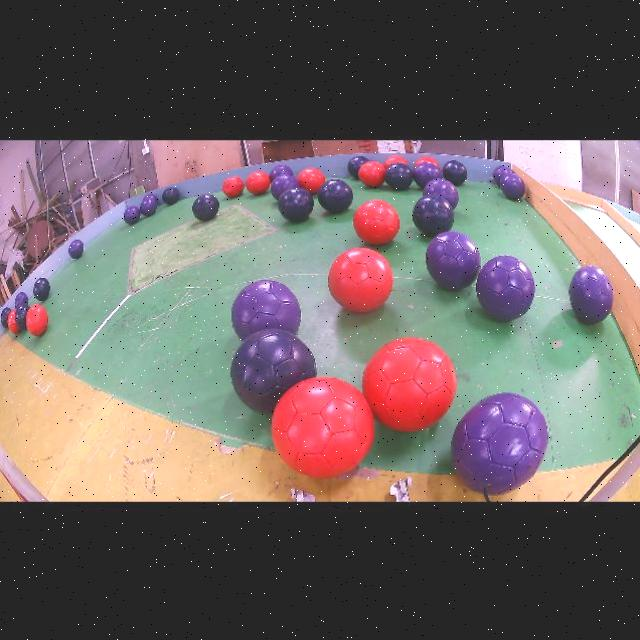B: (231, 329, 316, 415), (412, 194, 455, 237), (279, 188, 314, 222), (318, 179, 353, 213), (384, 163, 413, 191), (192, 194, 220, 221), (442, 160, 467, 186), (348, 157, 369, 179), (33, 277, 50, 301), (16, 304, 30, 330), (162, 187, 179, 205), (1, 308, 12, 329)
P: (451, 393, 548, 496), (231, 280, 301, 342), (476, 256, 535, 322), (426, 231, 481, 290), (569, 266, 613, 325), (423, 179, 459, 210), (270, 174, 300, 201), (413, 163, 442, 188), (500, 173, 525, 201), (269, 166, 294, 182), (493, 166, 513, 184), (124, 206, 140, 225), (69, 240, 84, 259), (15, 293, 28, 309)
R: (271, 378, 374, 479), (362, 338, 457, 432), (328, 249, 393, 313), (353, 199, 399, 245), (26, 305, 49, 337), (298, 168, 325, 194), (359, 162, 386, 187), (246, 171, 270, 194), (222, 177, 245, 198), (139, 197, 158, 217), (384, 155, 408, 169), (7, 310, 21, 334), (415, 157, 440, 168), (144, 194, 158, 202)
